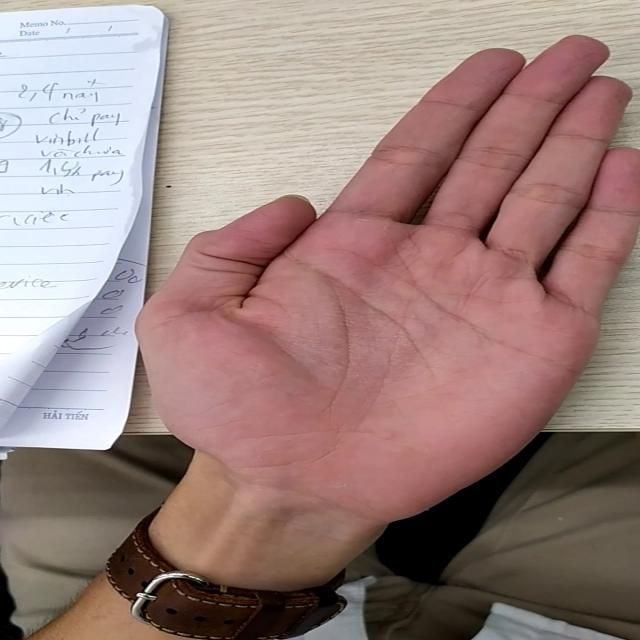hand: (162, 41, 640, 456)
